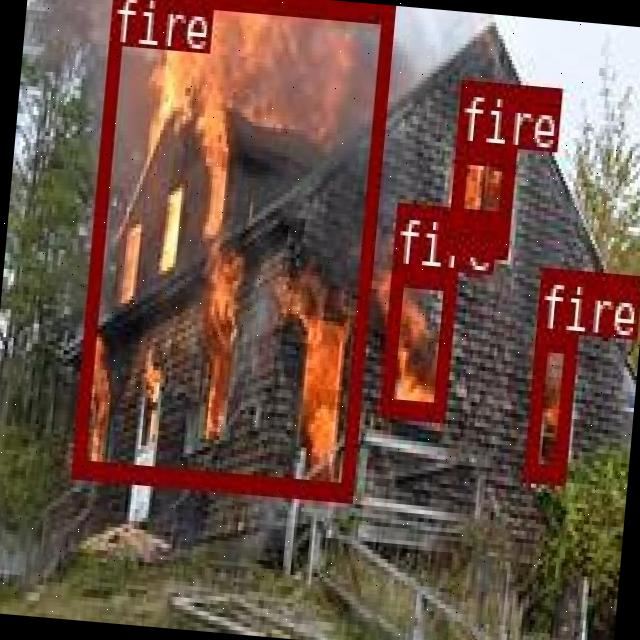fire: (68, 0, 392, 499), (378, 266, 454, 416), (521, 328, 576, 481), (446, 143, 514, 256)
